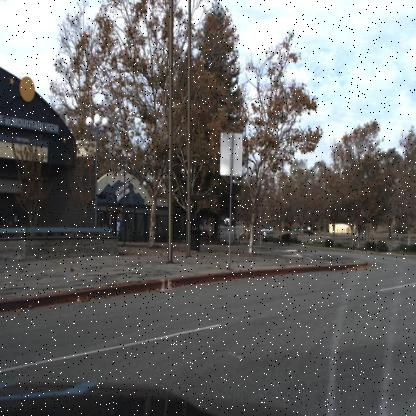car: (260, 225, 274, 237)
